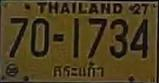0: (31, 17, 48, 56)
1: (73, 17, 78, 57)
3: (109, 18, 127, 57)
4: (130, 18, 147, 57)
7: (88, 17, 106, 57), (9, 17, 27, 57)
SKW: (52, 60, 107, 80)
